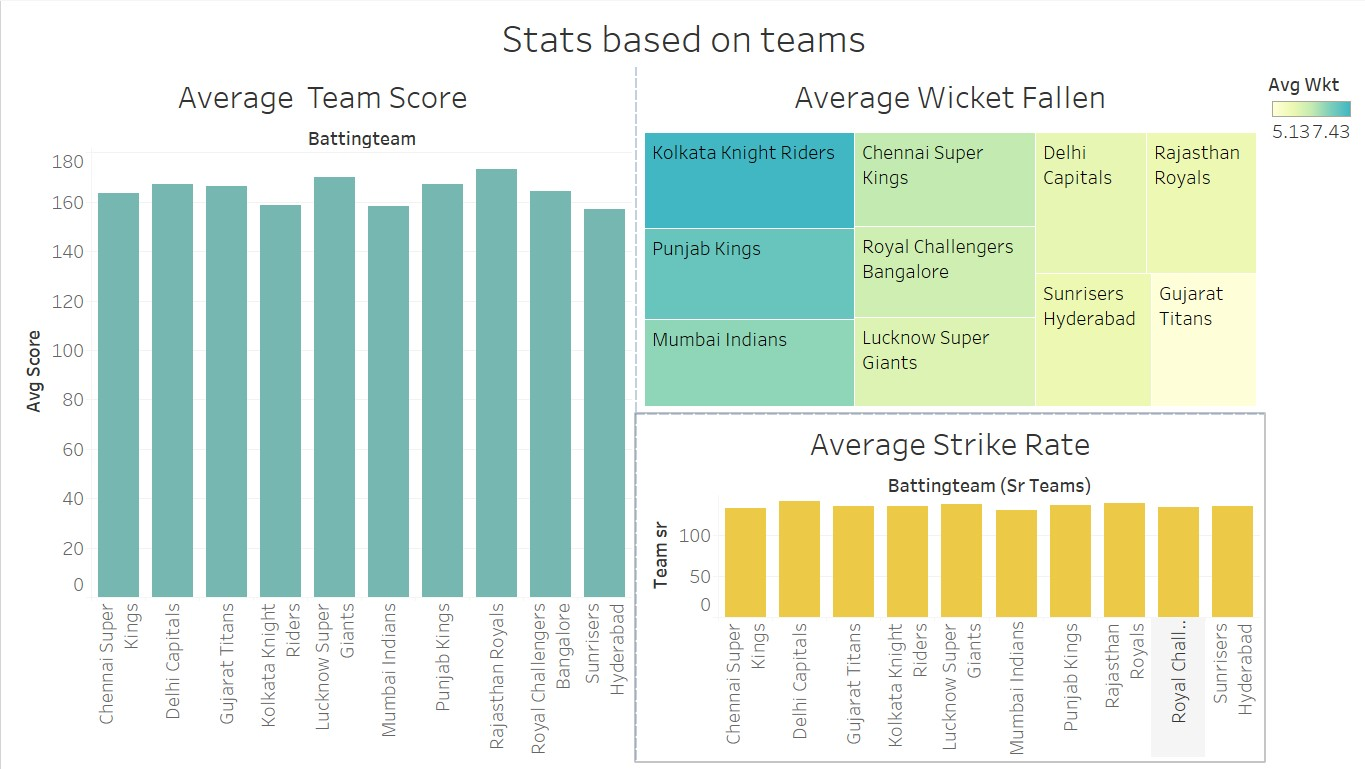

The page's visual inventory and layout, read from the dashboard file:
{"tool":"tableau","page":{"name":"Dashboard 1","canvas":[1366,768],"ordinal":1},"visuals":[{"type":"title","box":[8,8,1350,58]},{"type":"worksheet","title":"avg_score","mark":"Automatic","rows":["avg_score"],"cols":["battingteam"],"box":[8,66,627.4,694]},{"type":"worksheet","title":"Avg_wicketfallen","mark":"Automatic","box":[635.4,66,627.5,346.9]},{"type":"legend","title":"Avg_wicketfallen","param":"[federated.0jwavey1f49znl10globr1dw5yav].[sum:avg_wkt:qk]","box":[1263,66,95,81]},{"type":"worksheet","title":"Avg_sr","mark":"Automatic","rows":["Team_sr"],"cols":["battingteam (sr_teams)"],"box":[635.4,412.9,627.5,347.1]}]}

Visuals, with their boxes in screenshot pixels (x1, y1, x2, y2), scaled from the page's 1366x768 canvas onto the 1365x769 screenshot:
title: {"x1": 8, "y1": 8, "x2": 1357, "y2": 66}
"avg_score" worksheet: {"x1": 8, "y1": 66, "x2": 635, "y2": 761}
"Avg_wicketfallen" worksheet: {"x1": 635, "y1": 66, "x2": 1262, "y2": 413}
"Avg_wicketfallen" legend: {"x1": 1262, "y1": 66, "x2": 1357, "y2": 147}
"Avg_sr" worksheet: {"x1": 635, "y1": 413, "x2": 1262, "y2": 761}
